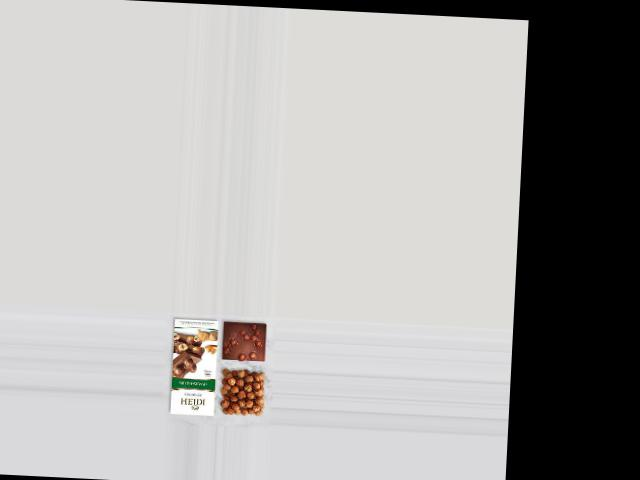chocolate: (219, 319, 271, 362)
